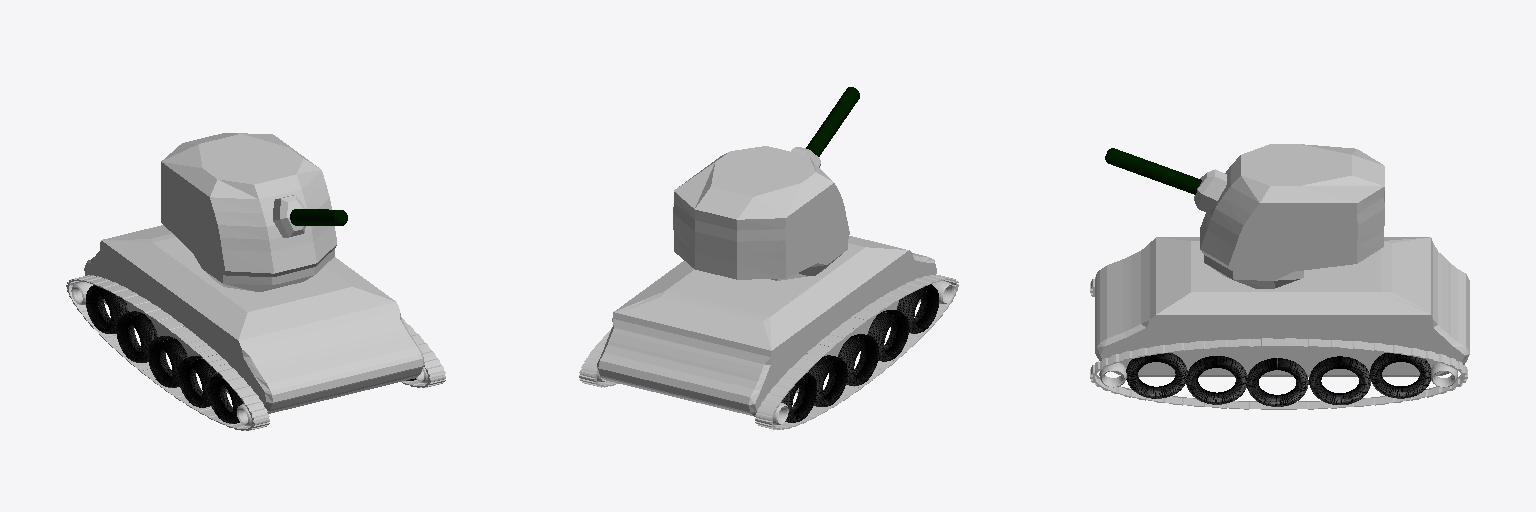
3 renders of one model, left to right at view 1: azimuth 30°, elevation 25°; view 2: azimuth 150°, elevation 25°; view 3: azimuth 270°, elevation 25°, orthographic.
Parts seen in each view (by area): view 1: Cubo, Cubo.001, Rosca.017, Gear.003, Cilindro, Rosca.010; view 2: Cubo, Cubo.001, Rosca.017, Gear.003, Cilindro, Rosca.010; view 3: Cubo, Cubo.001, Rosca.017, Gear.003, Cilindro, Rosca.010.
Part boxes in pixels (x1,y1,x2,y2): Cubo: (84, 225, 424, 413); Cubo.001: (161, 133, 336, 291); Rosca.017: (86, 285, 416, 423); Gear.003: (66, 275, 445, 430); Cilindro: (290, 209, 347, 225); Rosca.010: (71, 282, 427, 425); Cubo: (597, 236, 936, 416); Cubo.001: (673, 146, 849, 280); Rosca.017: (781, 284, 938, 422); Gear.003: (579, 275, 958, 429); Cilindro: (806, 87, 859, 156); Rosca.010: (597, 281, 953, 424); Cubo: (1095, 237, 1469, 376); Cubo.001: (1194, 144, 1384, 288); Rosca.017: (1126, 353, 1430, 406); Gear.003: (1090, 277, 1467, 409); Cilindro: (1105, 148, 1201, 194); Rosca.010: (1099, 362, 1457, 387).
Bounding box in the file's own units: 22.06 × 23.35 × 37.37.
Materials: 6 (1 with a texture image).